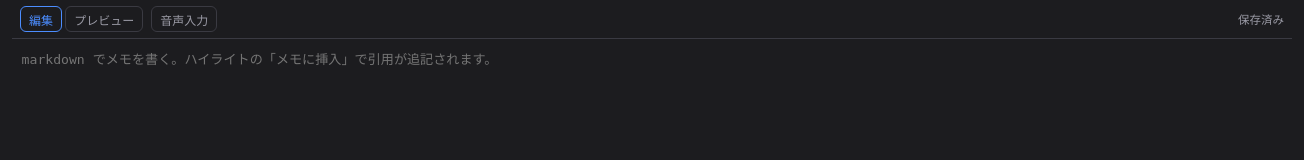
Test: NotesPanel dictation button › hides the hint again when the button is clicked a second time
Click the button "音声入力" at {"x": 184, "y": 19}, box [151,6,217,32]
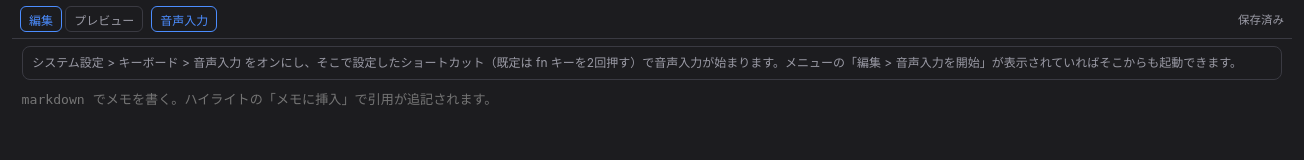
expect the button "音声入力" is expanded: met
Click the button "音声入力" at {"x": 184, "y": 19}, box [151,6,217,32]
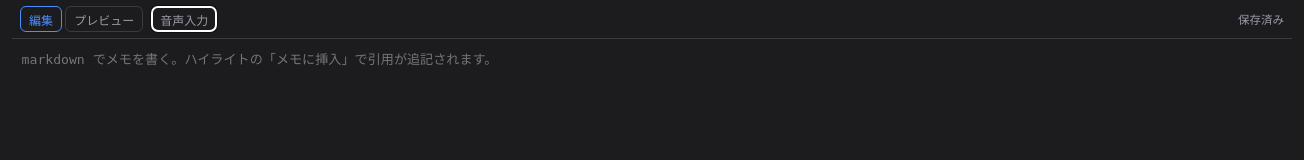
expect the button "音声入力" is collapsed: met, box [151,6,217,32]
expect the text "fn キーを2回押す" is gone: met
